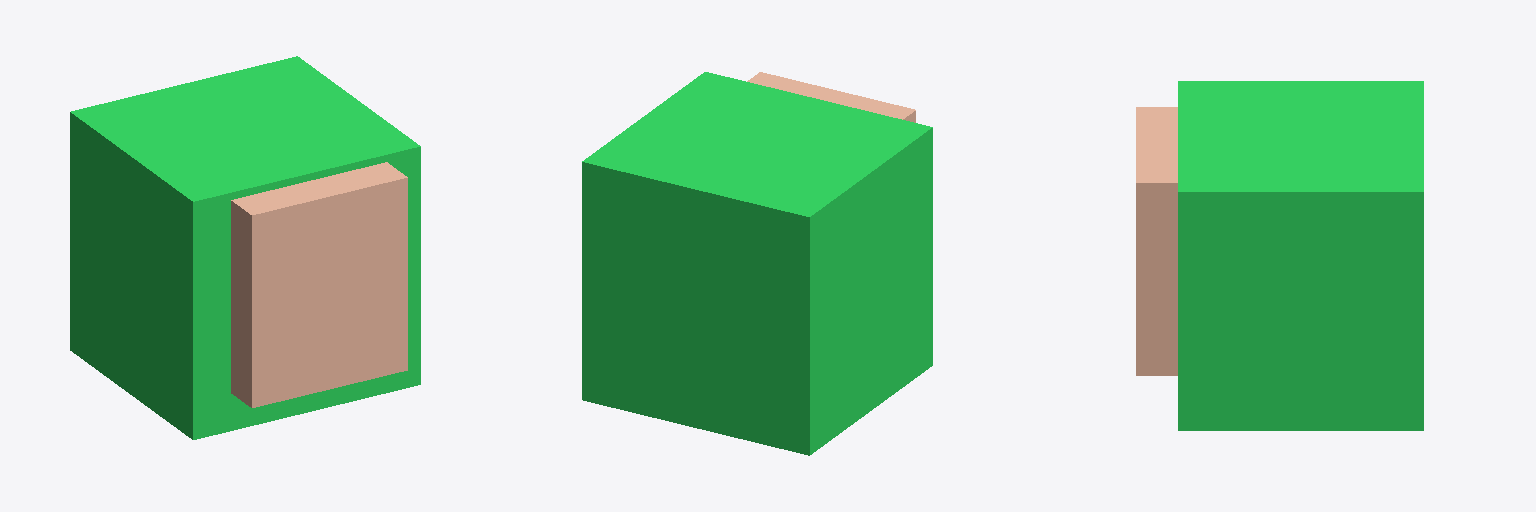
3 renders of one model, left to right at view 1: azimuth 30°, elevation 25°; view 2: azimuth 150°, elevation 25°; view 3: azimuth 270°, elevation 25°, orthographic.
Visible parts, largest first — view 1: green_body:polySurface6; view 2: green_body:polySurface6; view 3: green_body:polySurface6.
Part boxes in pixels (left/top/right/bottom): green_body:polySurface6: left=70, top=56, right=420, bottom=439; green_body:polySurface6: left=582, top=72, right=932, bottom=455; green_body:polySurface6: left=1136, top=81, right=1423, bottom=430.
Size of the model in its own units: 1.6 by 1.6 by 1.76.
1 materials, 1 textured.